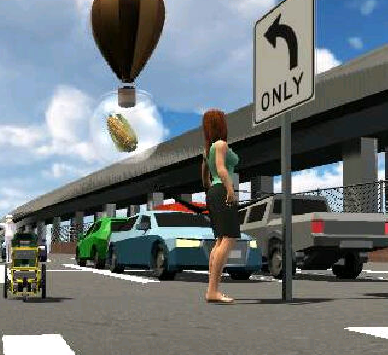arrow_left: (262, 14, 302, 71)
